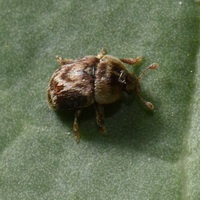insect: (48, 48, 157, 142)
